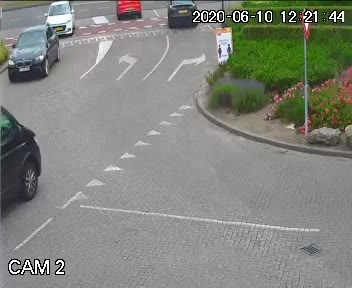car: (0, 96, 51, 214), (2, 28, 61, 90), (163, 0, 202, 31), (47, 2, 80, 37), (117, 0, 140, 22)
